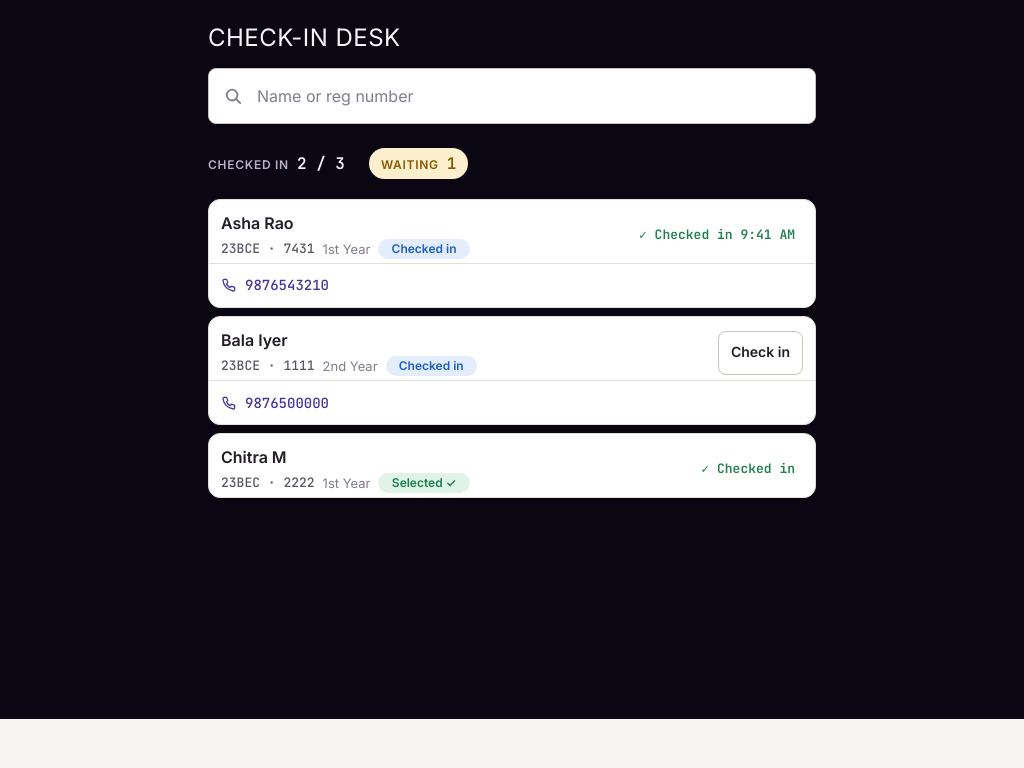
Test case: Desk read-only record drawer › row tap opens the full record — identity, prefs, comments; NO payment, NO verdict controls
What coordinates should you click on to do the following:
click the button "Asha Rao 23BCE · 7431 1st Year Checked in"
I would click on:
 (257, 223)
Its box is [209,200,623,263].
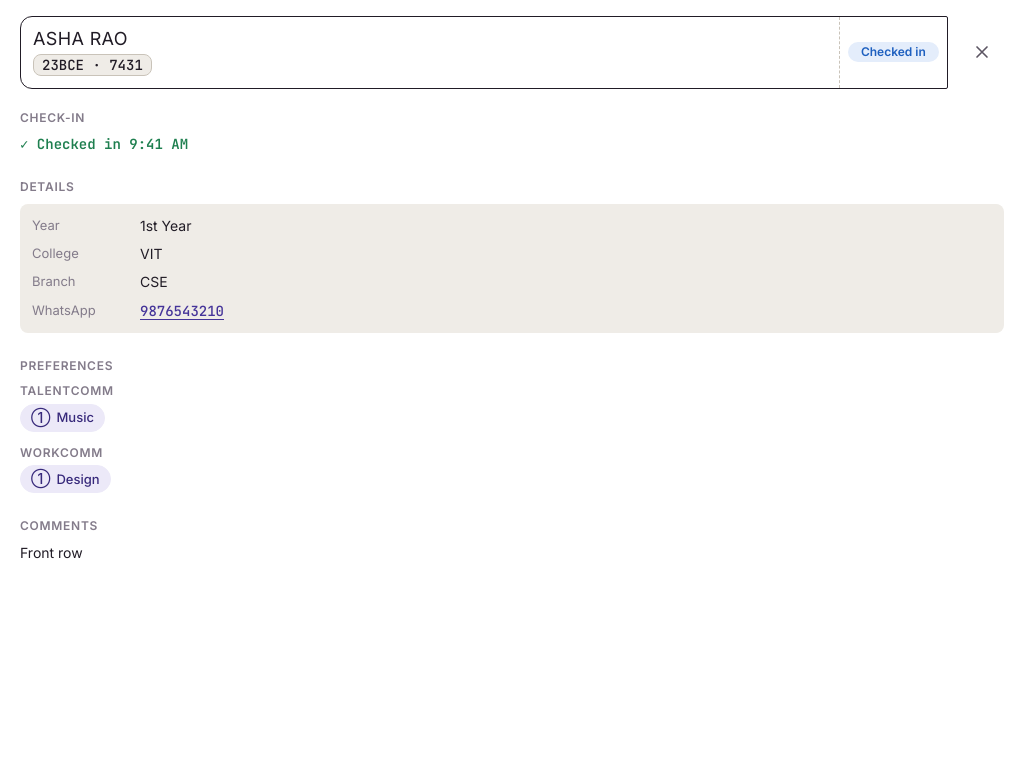
Check: the heading "Details" is shown, box [20,180,74,194]
Check: the text "VIT" is shown, box [140,245,162,262]
Check: the heading "Preferences" is shown, box [20,358,113,373]
